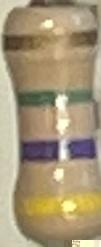Blue: (20, 136, 99, 165)
Green: (15, 84, 94, 107)
Side-Silver: (4, 27, 97, 51)
Yellow: (15, 189, 100, 219)
